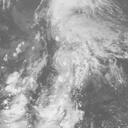cyclone: (46, 25, 96, 90), (35, 89, 82, 127)
